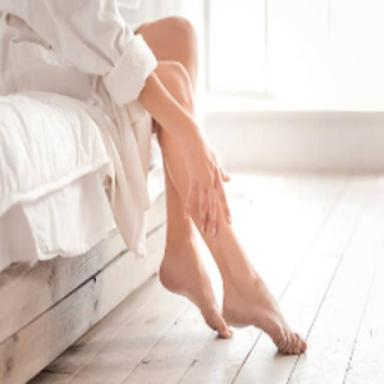normal skin: (137, 17, 306, 354)
